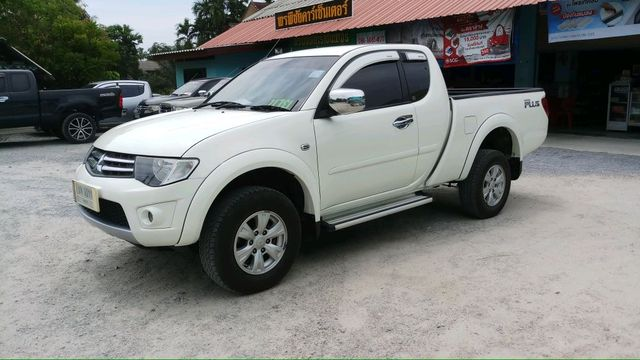pickup: (70, 43, 553, 294)
